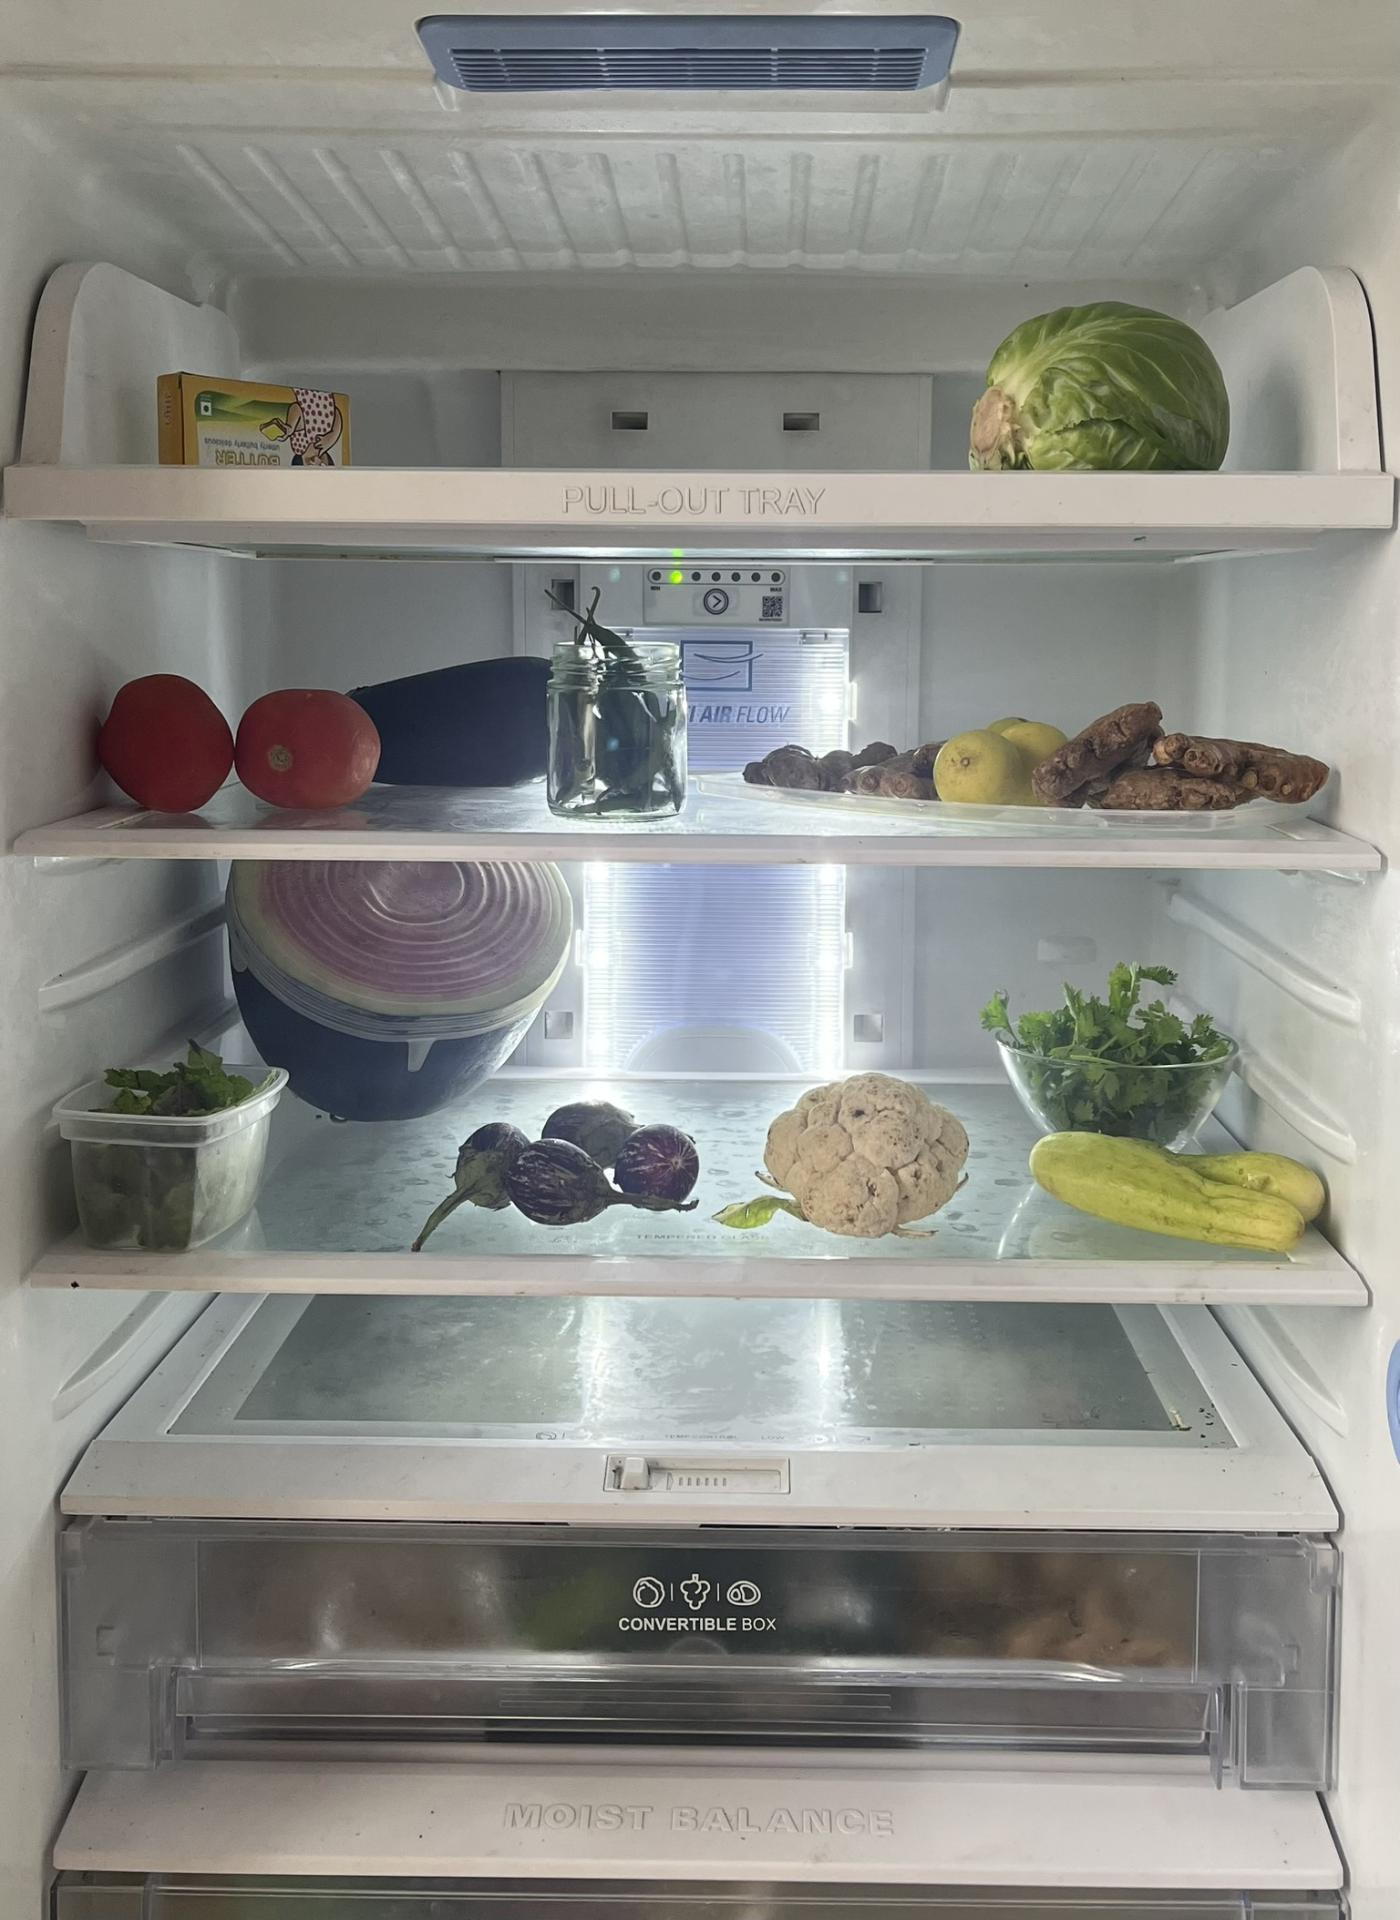basil: (76, 1039, 282, 1233)
brinjal: (429, 1097, 710, 1230), (324, 659, 583, 795)
butter: (155, 359, 356, 470)
cabbage: (956, 297, 1242, 468)
cauliflower: (747, 1066, 972, 1239)
chillies: (550, 587, 695, 811)
coriander: (994, 960, 1242, 1145)
cucumber: (1029, 1118, 1330, 1240)
ginger: (1039, 698, 1333, 814), (744, 732, 948, 793)
lemon: (936, 714, 1069, 806)
tomato: (95, 659, 236, 805), (240, 675, 385, 806)
watermelon: (219, 854, 571, 1114)
